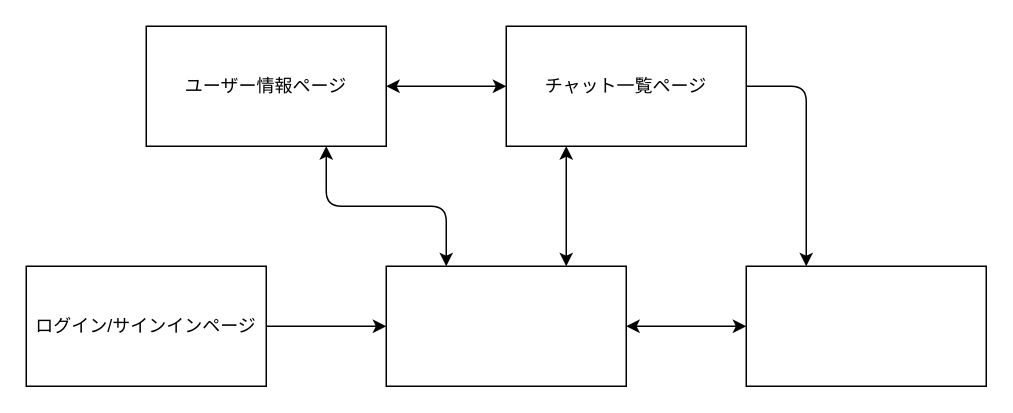
The diagram is 1013 pixels wide and 413 high, and some of its shapes have lost their labels. The centre of each missing label's shape, as x and y in pixels:
トップページ: (x=505, y=325)
ルーム作成ページ: (x=865, y=325)
